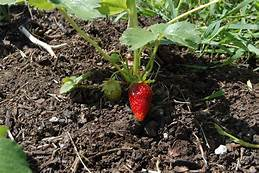Fresa: (123, 75, 158, 123)
